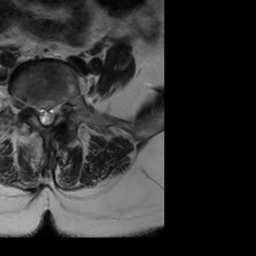CCS_stenosis: (43, 98, 49, 131)
LFS_normal: (56, 95, 64, 122)
LLS_normal: (49, 97, 56, 129)
RFS_stenosis: (28, 95, 36, 117)
RLS_normal: (36, 98, 43, 128)
